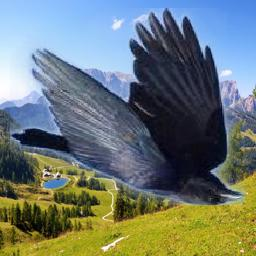Crow: (11, 9, 246, 206)
